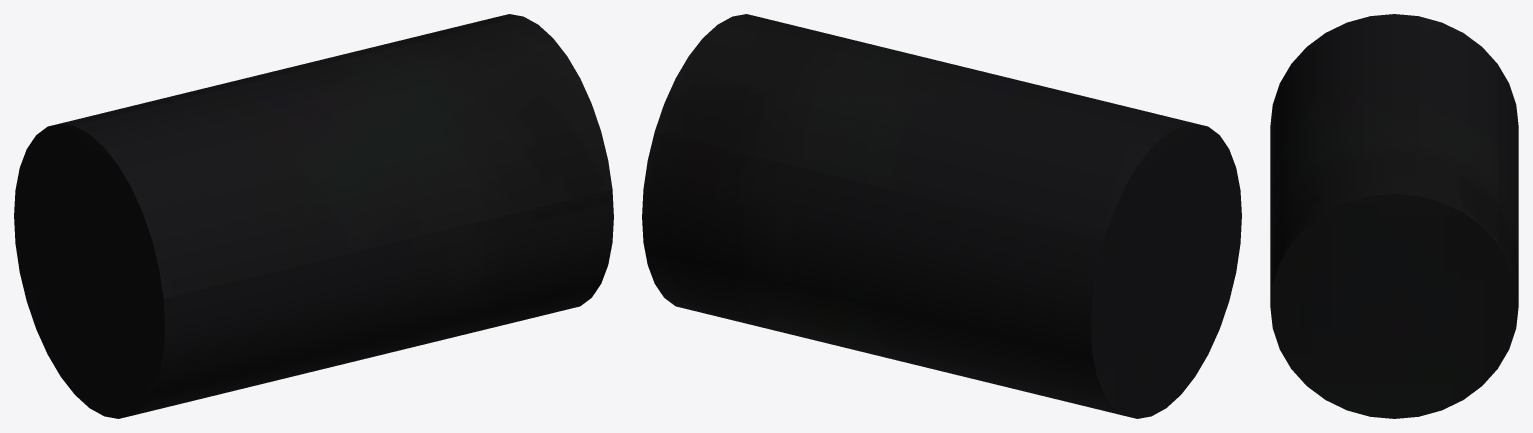
File: wheel_1__valve_stem.glb
3 renders of one model, left to right at view 1: azimuth 30°, elevation 25°; view 2: azimuth 150°, elevation 25°; view 3: azimuth 270°, elevation 25°, orthographic. The views are drawn at different scales.
Parts seen in each view (by area): view 1: world; view 2: world; view 3: world.
Part boxes in pixels (<box>): world: <box>14,14,613,418</box>; world: <box>642,14,1241,418</box>; world: <box>1270,14,1518,418</box>.
Bounding box in the file's own units: 0.012 × 0.007 × 0.007.
Materials: 1 (1 with a texture image).
